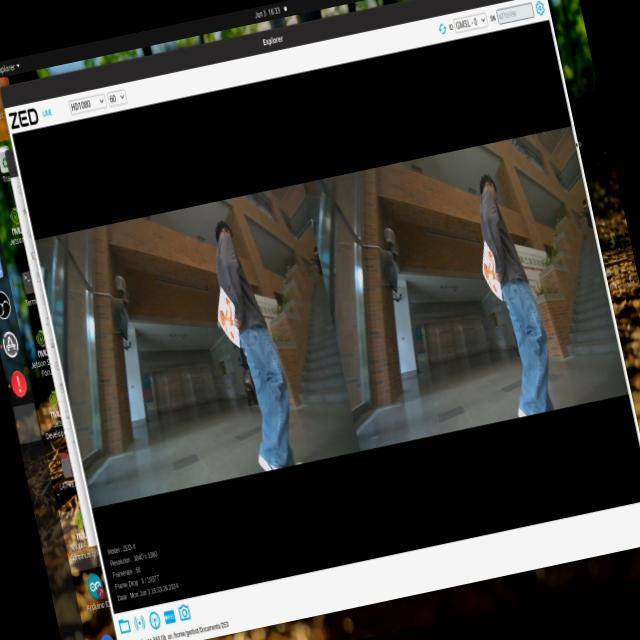red: (210, 285, 244, 343), (476, 243, 507, 292)
